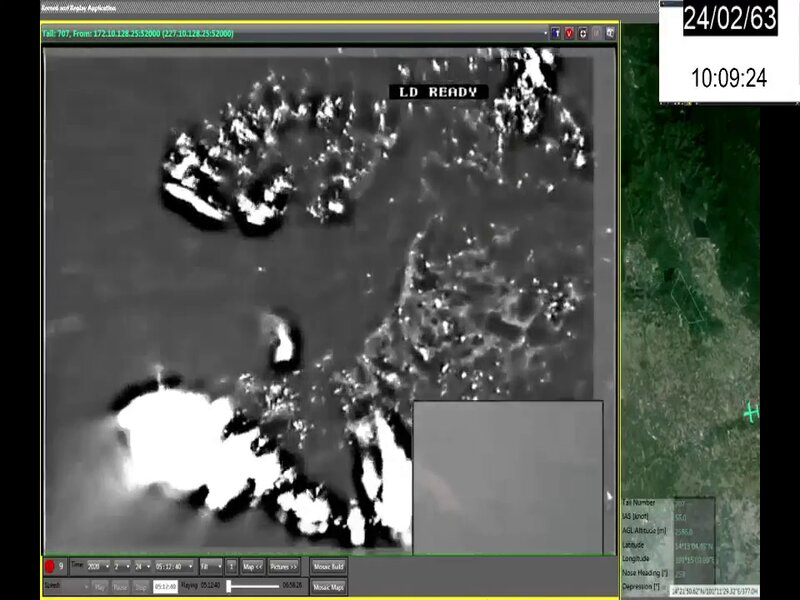Fire: (111, 98, 411, 548)
